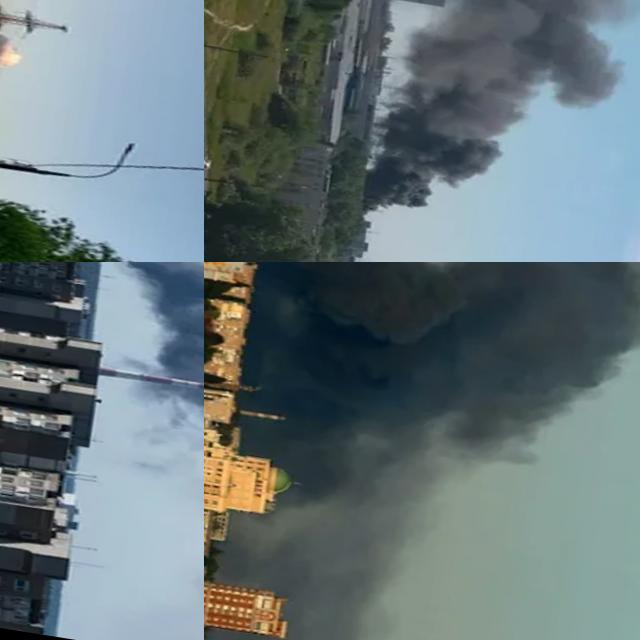smoke: (220, 262, 640, 583), (358, 0, 640, 262), (46, 262, 204, 640)
